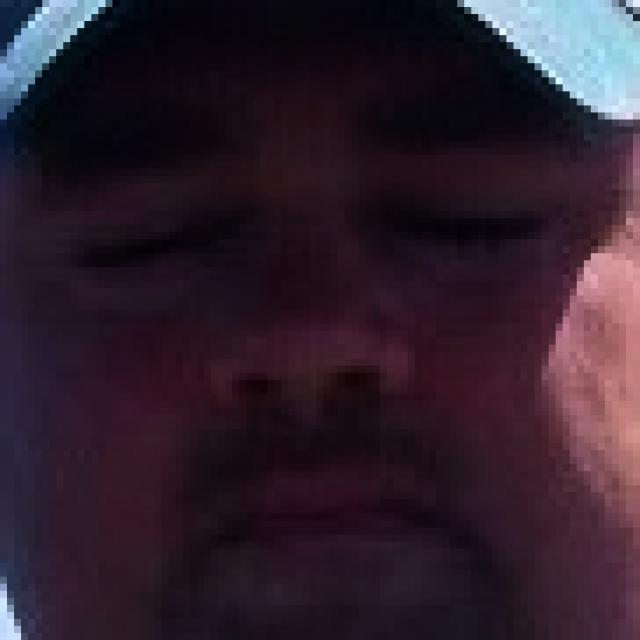sleepy: (74, 140, 584, 610)
